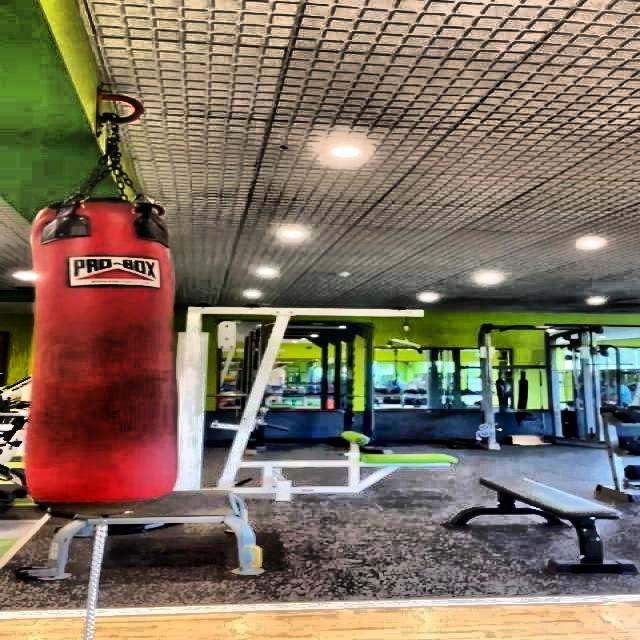boxing-bag: (34, 88, 180, 519)
